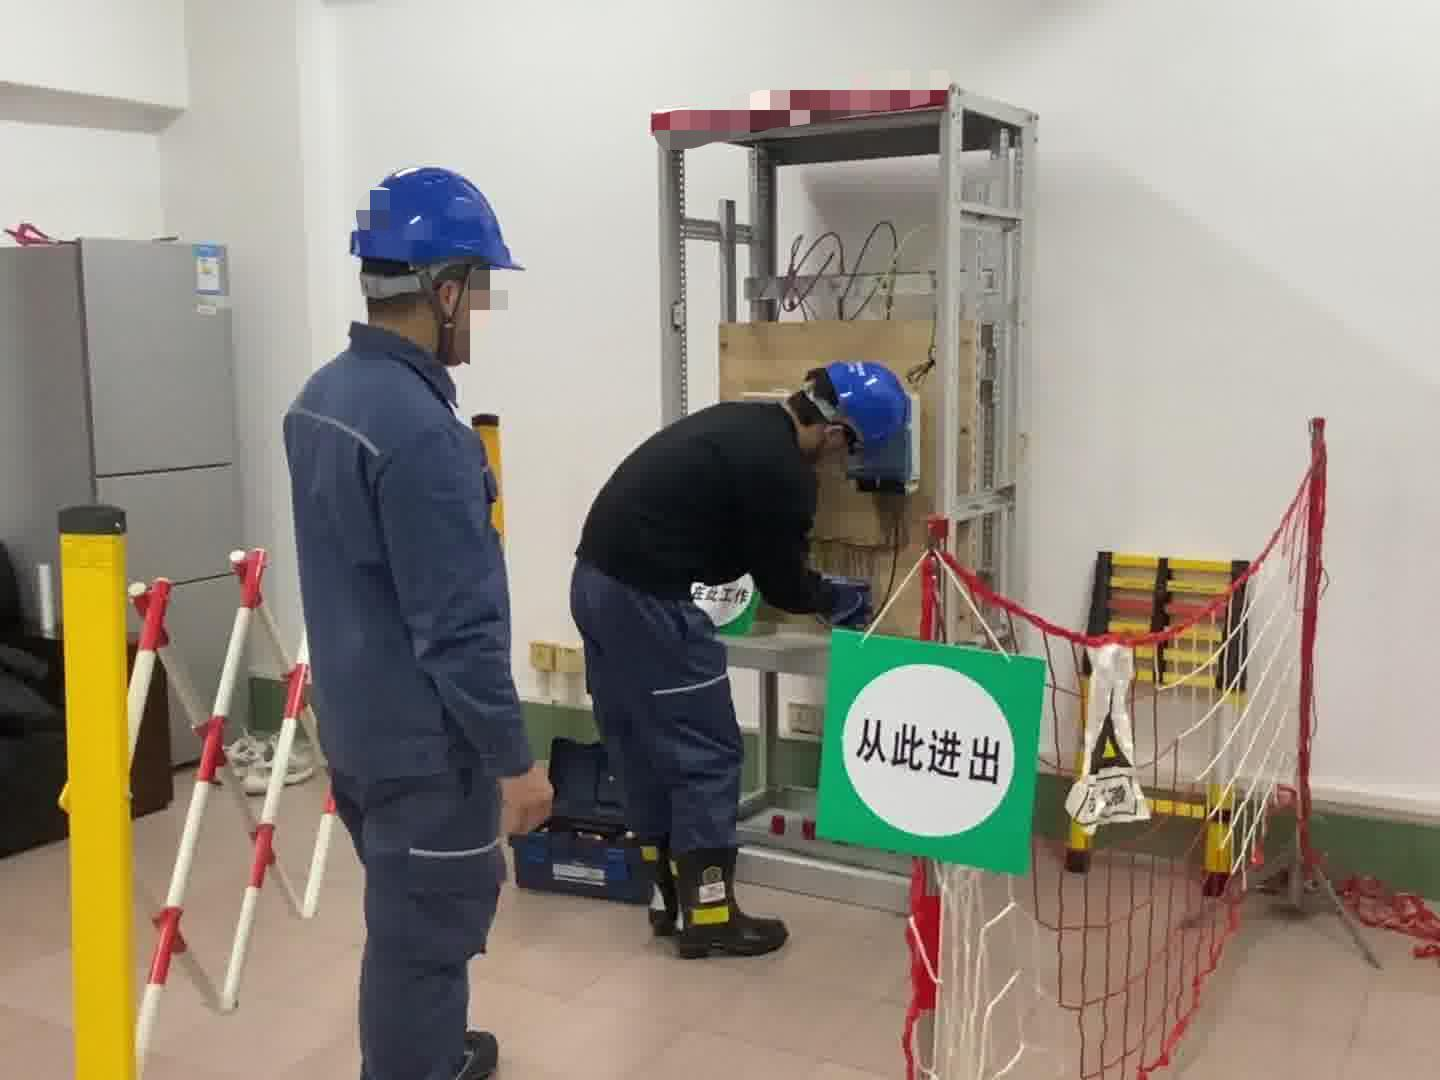halt: (346, 168, 527, 366), (783, 358, 915, 473)
inear: (417, 261, 477, 360), (420, 263, 476, 336)
